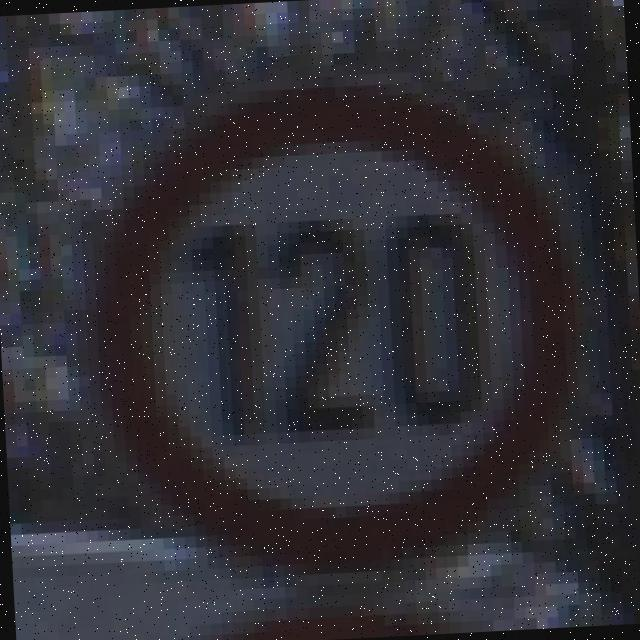Ograniczenie predkosci do 120: (89, 80, 583, 590)
